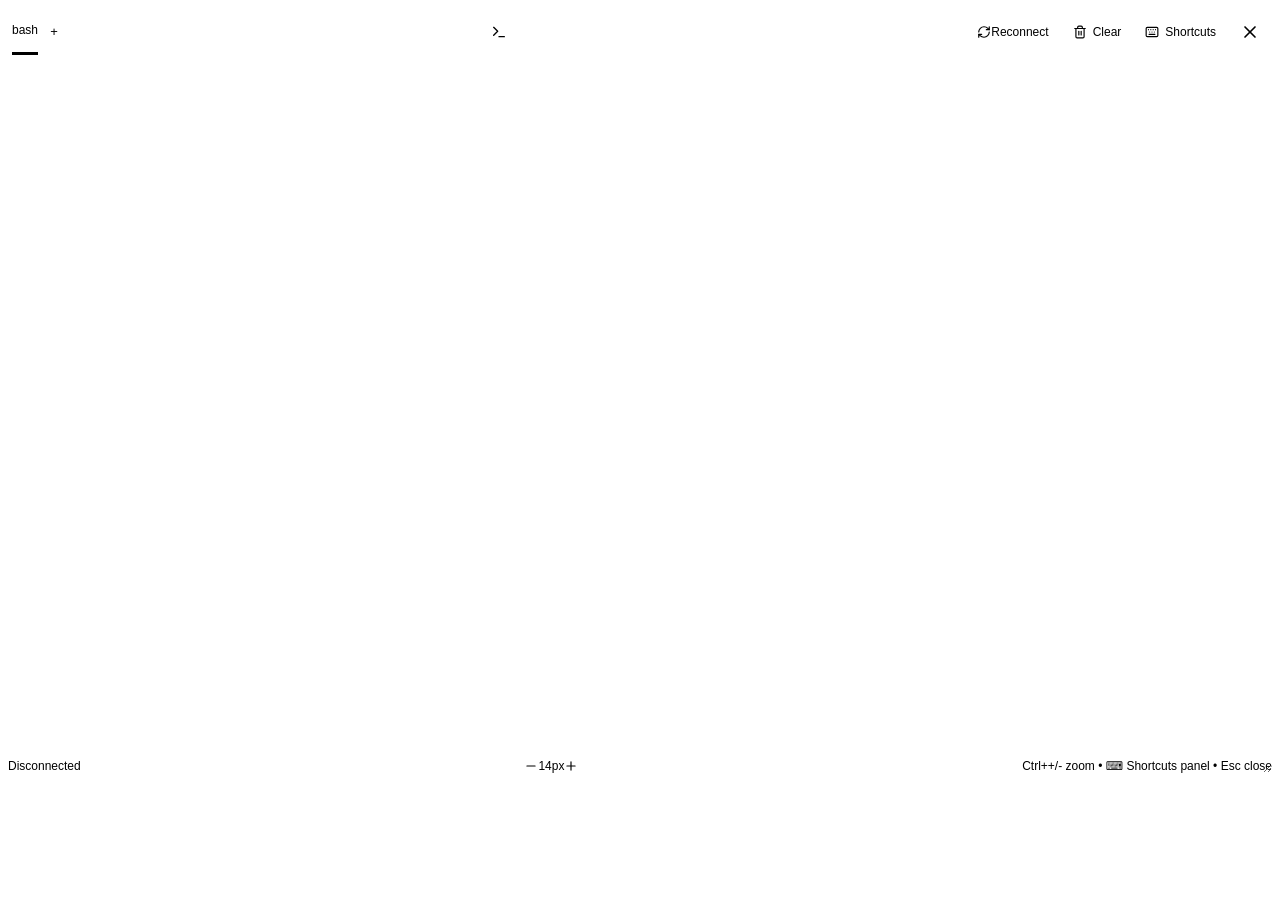
Test case: TerminalModal › shortcut panel › is hidden by default and toggles from header action
The width and height of the screenshot is (1280, 900).
Step 1. Click the button with test id "terminal-shortcut-toggle" → (1181, 32), box [1133, 18, 1228, 44]
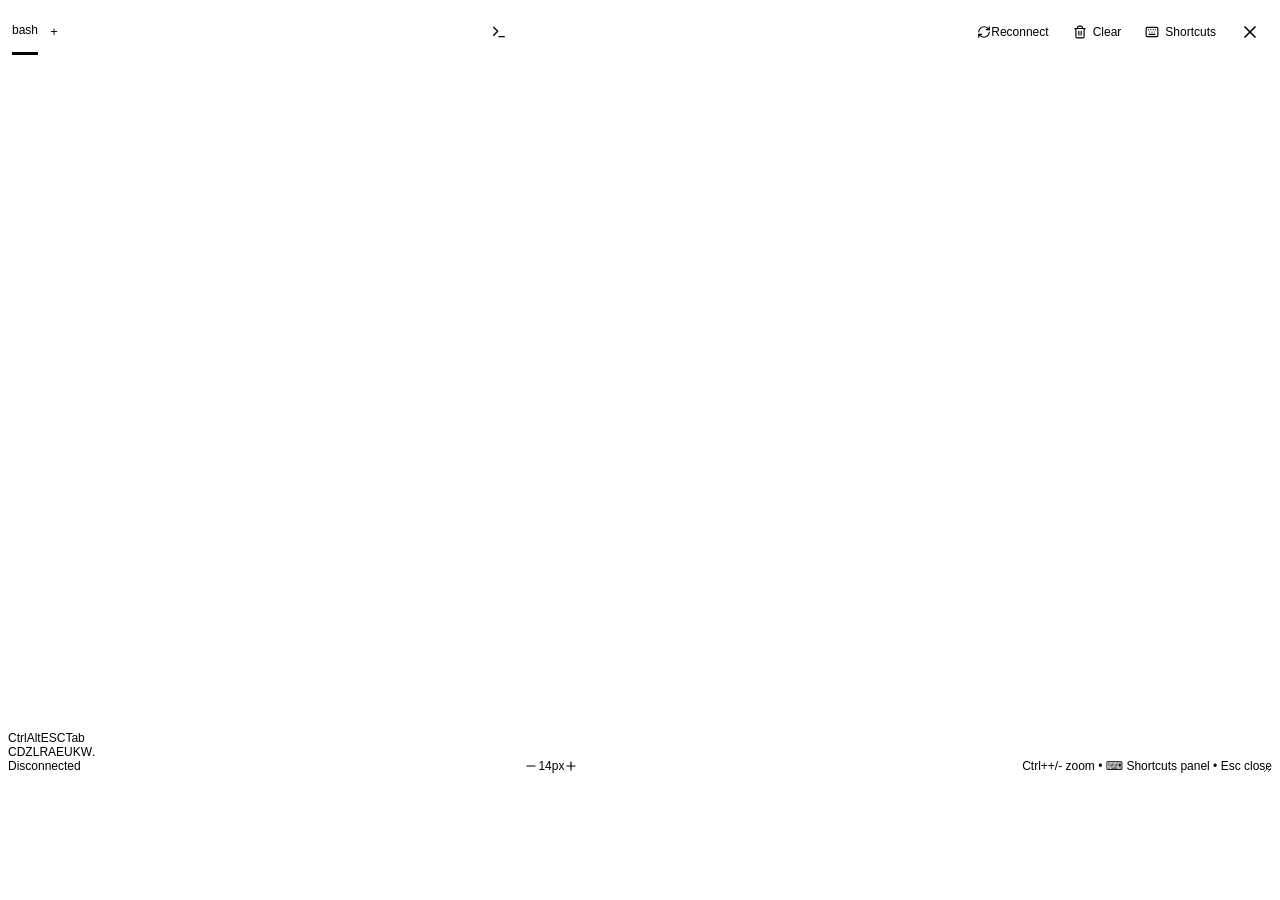
Check: the element with test id "terminal-shortcut-panel" is shown, box [8, 731, 95, 759]
Step 2. Click the button with test id "terminal-shortcut-toggle" → (1181, 32), box [1133, 18, 1228, 44]
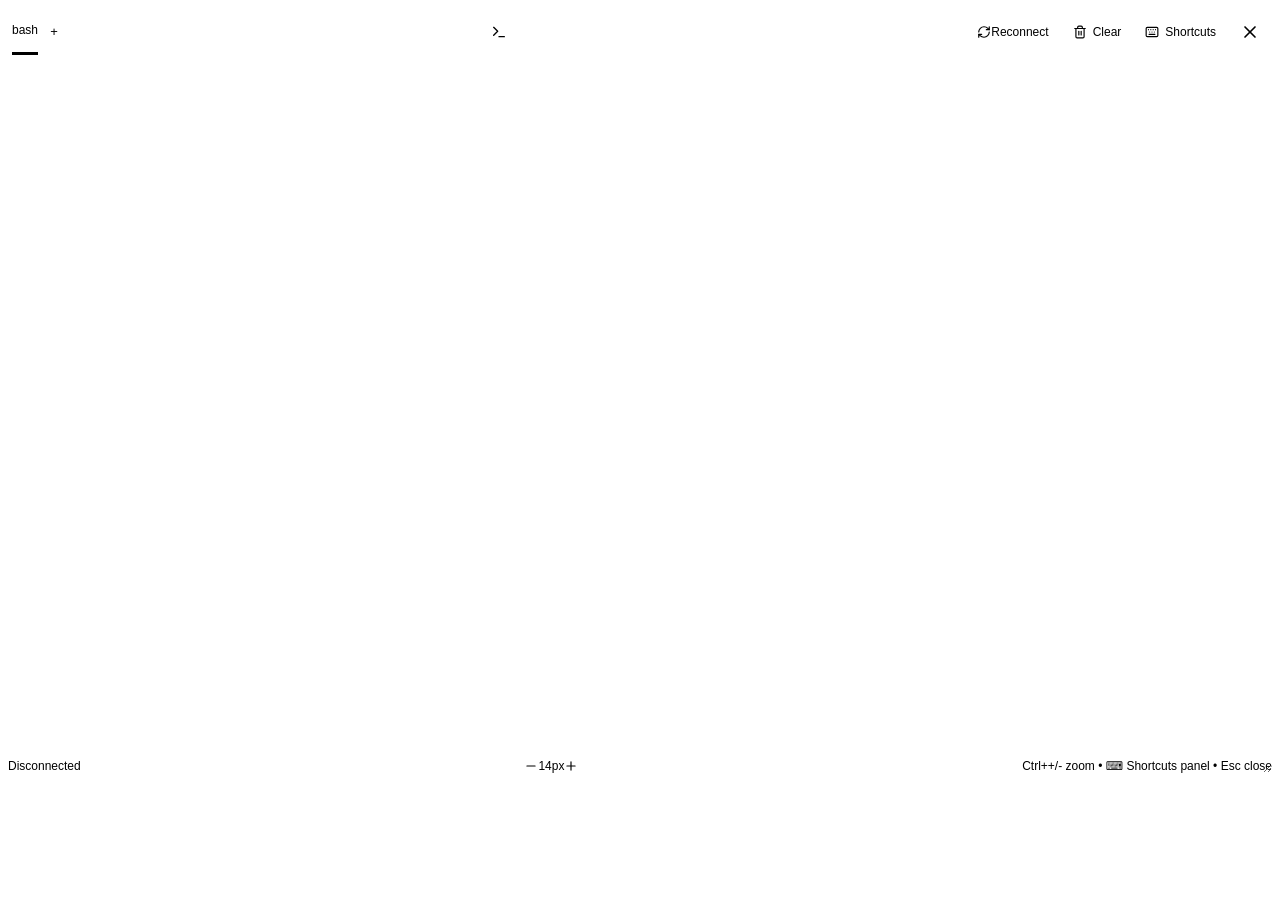
Check: the element with test id "terminal-shortcut-panel" is gone
